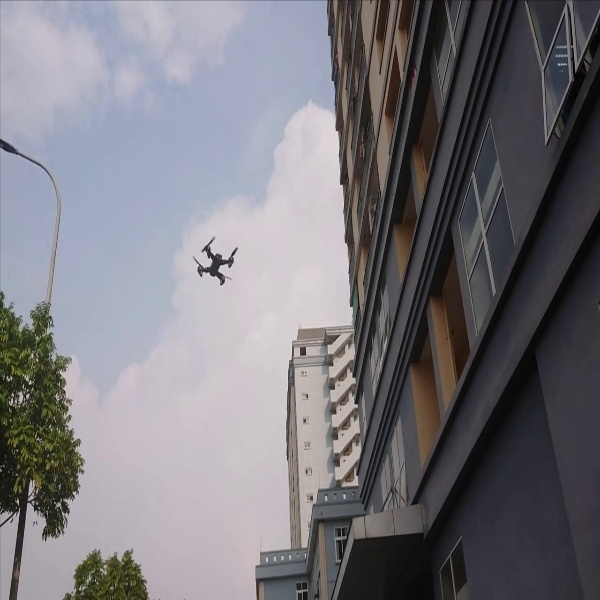drone: (189, 233, 244, 290)
